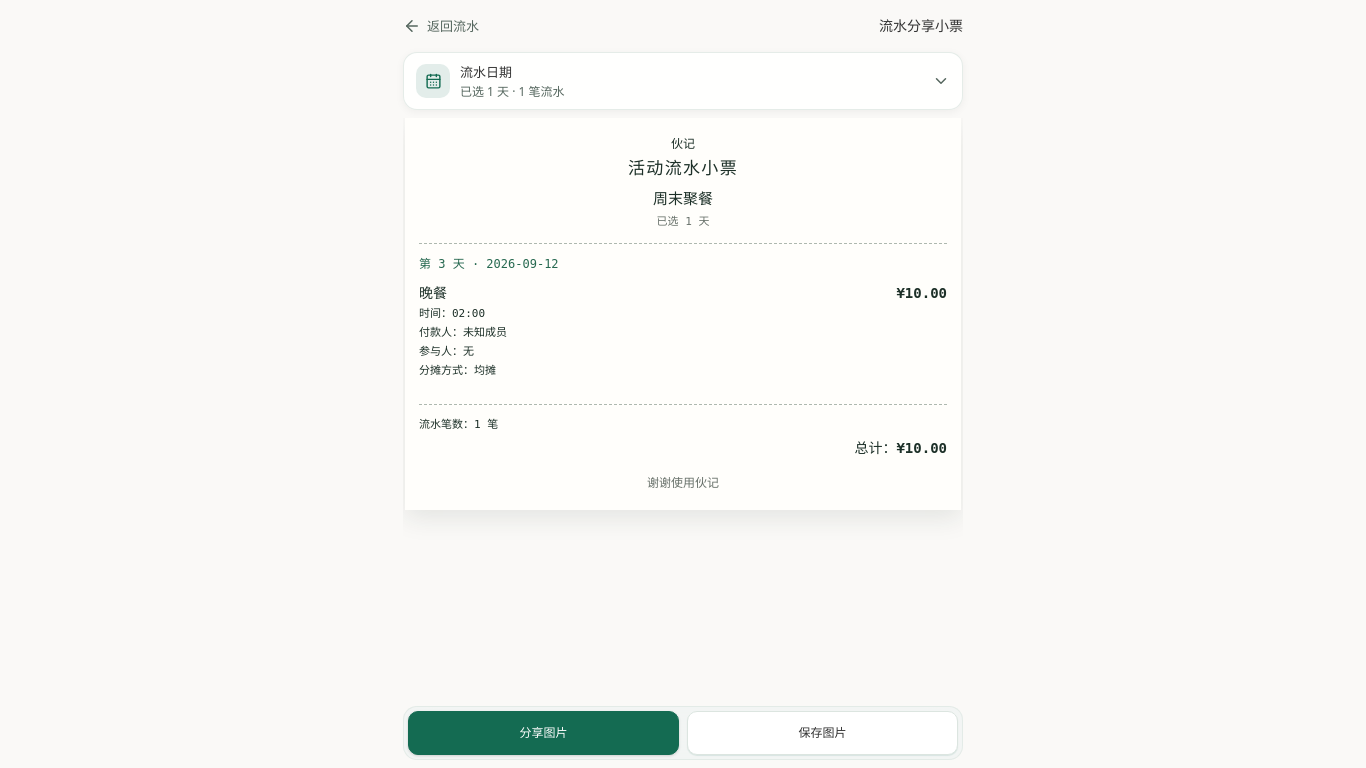
it: ReceiptSharePage › 可以多选日期并按第 X 天分组预览
The image size is (1366, 768).
What coordinates should you click on to do the following:
click the button "流水日期 已选 1 天 · 1 笔流水"
I would click on:
 (433, 81)
Its box is [403,52,963,110].
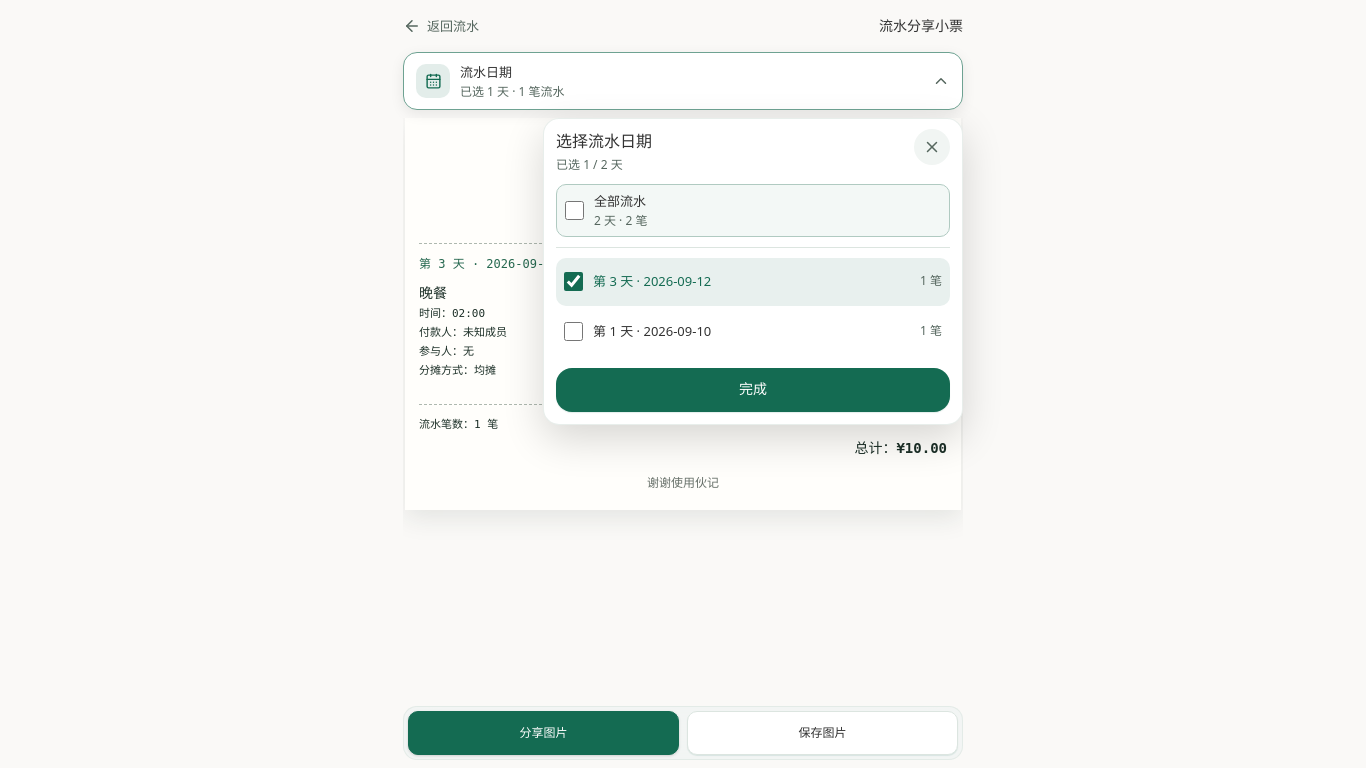
Now the text "第 1 天 · 2026-09-10" is shown, box [593,322,711,340]
Now the text "第 3 天 · 2026-09-12" is shown 2 times, box [593,272,711,290]; [419,257,559,271]
What coordinates should you click on to do the following:
click the checkbox labelled "第 1 天 · 2026-09-10 1 笔"
I would click on:
 (574, 332)
Its box is [564,322,583,341].
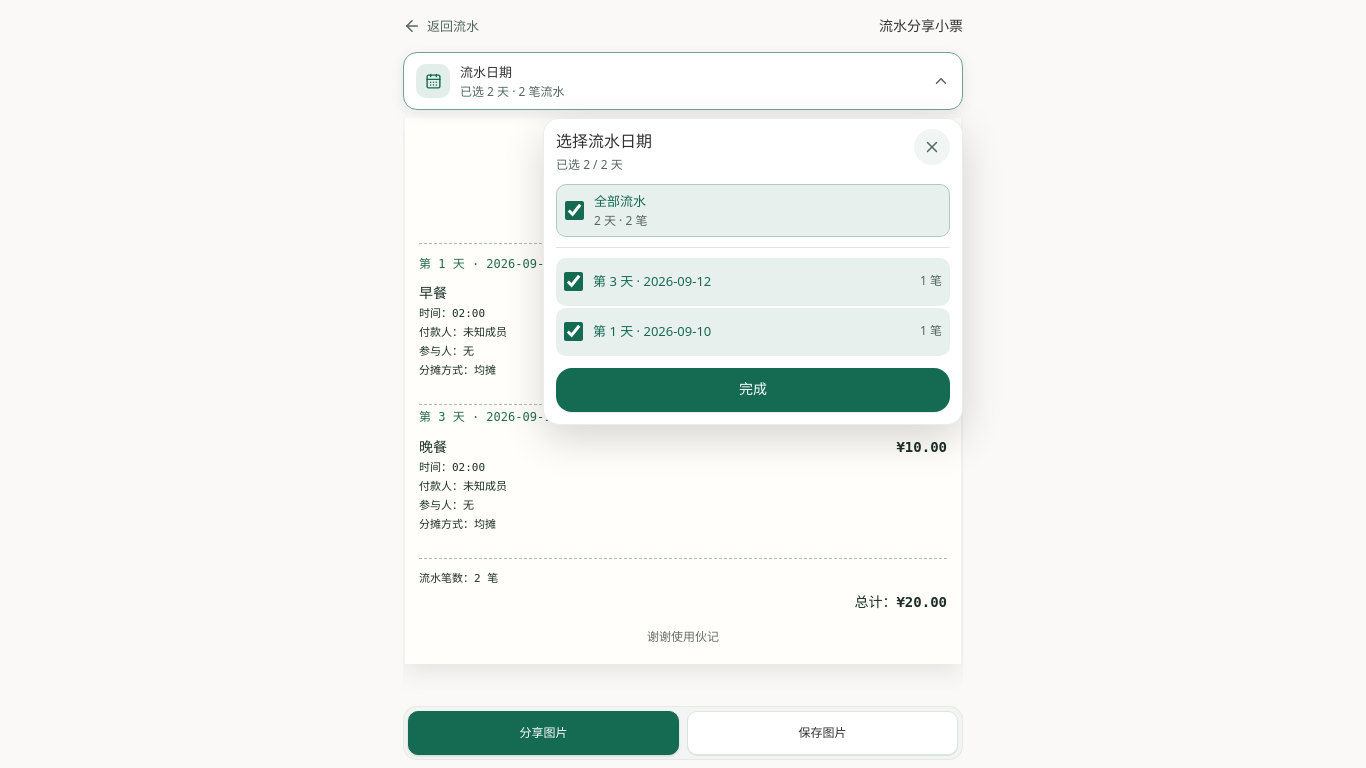
Expected: the text "晚餐" is shown, [419,437,447,457]
Now the text "第 3 天 · 2026-09-12" is shown 2 times, box [593,272,711,290]; [419,410,559,424]
Now the text "早餐" is shown, box [419,283,447,304]
